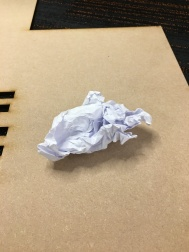paper_white: (29, 87, 164, 170)
